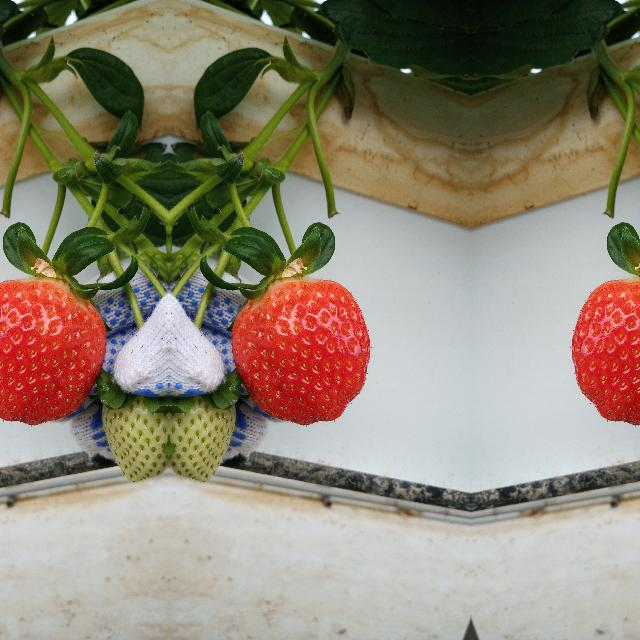Health_100: (229, 276, 371, 426), (0, 276, 107, 426), (570, 276, 640, 426)
Health_25: (168, 392, 230, 482), (106, 392, 168, 482)
